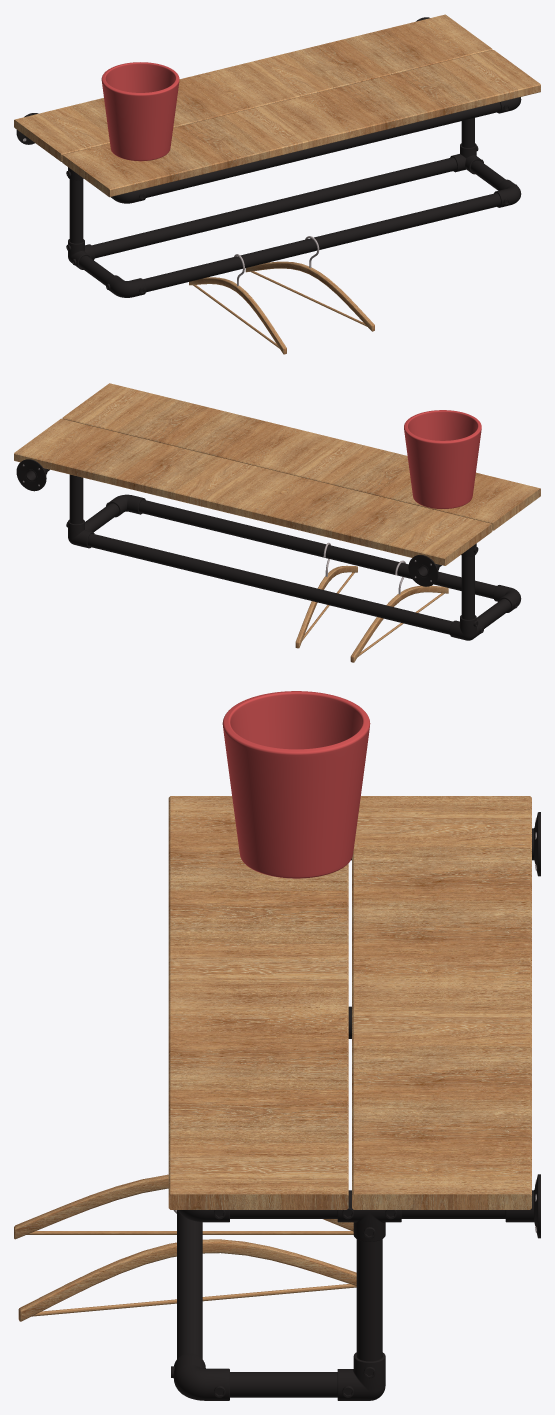
File: coatRack.glb
The picture shows the model from 3 angles, top to bottom: view 1: azimuth 30°, elevation 25°; view 2: azimuth 150°, elevation 25°; view 3: azimuth 270°, elevation 25°; orthographic projection. The views are drawn at different scales.
Visible parts, largest first — view 1: Object_9, Object_5, Object_2, Object_8, Object_6, Object_7; view 2: Object_9, Object_5, Object_2, Object_8, Object_7, Object_6; view 3: Object_9, Object_2, Object_5, Object_8, Object_6, Object_7.
Part boxes in pixels (x1,y1,x2,y2): Object_9: (14,14,540,197); Object_5: (68,102,505,297); Object_2: (101,62,179,161); Object_8: (189,261,374,354); Object_6: (62,97,521,207); Object_7: (16,17,516,293); Object_9: (14,383,540,565); Object_5: (25,469,521,640); Object_2: (404,410,481,508); Object_8: (295,565,448,662); Object_7: (16,459,517,633); Object_6: (106,494,478,570); Object_9: (168,796,531,1209); Object_2: (222,691,370,878); Object_5: (177,1006,505,1400); Object_8: (14,1174,356,1321); Object_6: (173,859,401,1400); Object_7: (171,812,540,1397).
Bounding box in the file's own units: 1.1 × 0.583 × 0.6152.
Materials: 5 (2 with a texture image).
